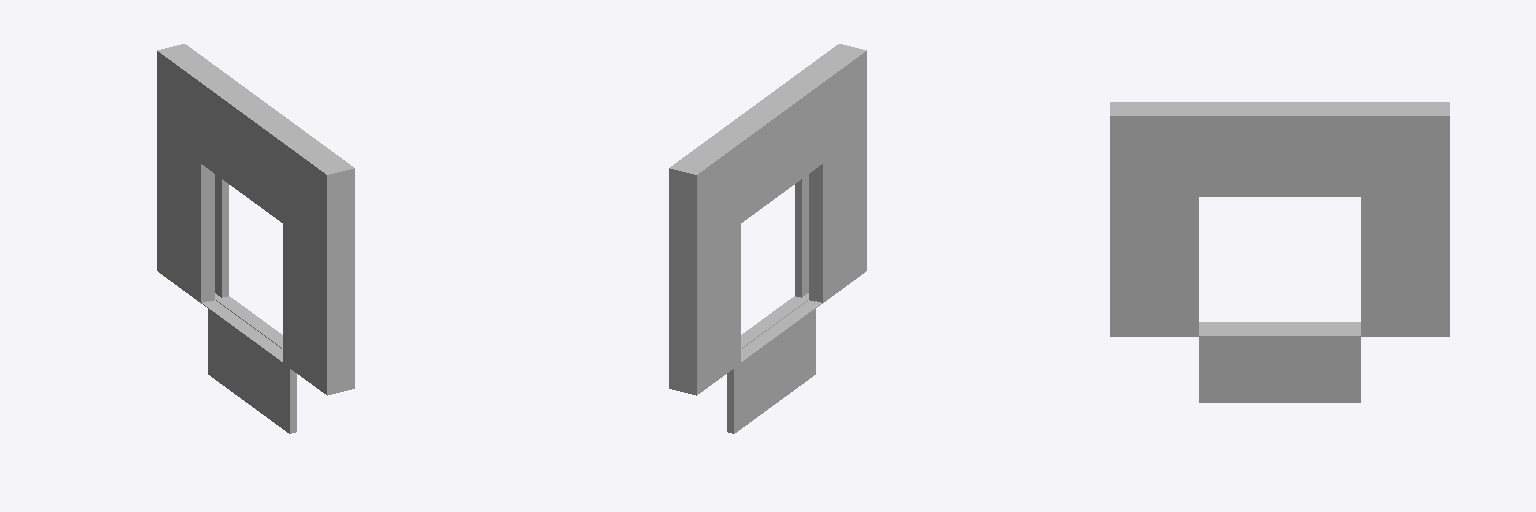
The model's file is Door-Type-3-Frame.obj.
The picture shows the model from 3 angles: view 1: azimuth 30°, elevation 25°; view 2: azimuth 150°, elevation 25°; view 3: azimuth 270°, elevation 25°; orthographic projection.
Parts seen in each view (by area): view 1: Door-Type-3-Frame; view 2: Door-Type-3-Frame; view 3: Door-Type-3-Frame.
Part boxes in pixels (bbox=[...]): Door-Type-3-Frame: bbox=[157, 44, 354, 433]; Door-Type-3-Frame: bbox=[669, 44, 866, 433]; Door-Type-3-Frame: bbox=[1110, 102, 1449, 402].
Bounding box in the file's own units: 0.8 × 7.98 × 8.4.